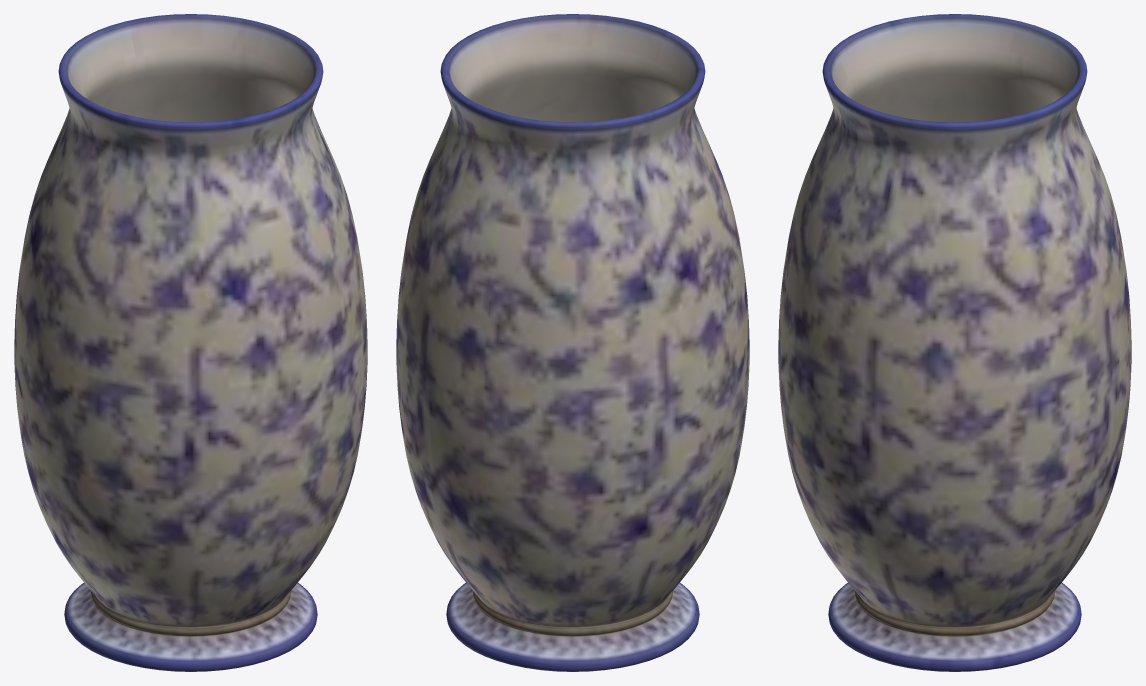
Rendered from antique_ceramic_vase_01.glb.
3 renders of one model, left to right at view 1: azimuth 30°, elevation 25°; view 2: azimuth 150°, elevation 25°; view 3: azimuth 270°, elevation 25°, orthographic.
Parts seen in each view (by area): view 1: antique_ceramic_vase_01; view 2: antique_ceramic_vase_01; view 3: antique_ceramic_vase_01.
Part boxes in pixels (<box>): antique_ceramic_vase_01: <box>14,14,367,671</box>; antique_ceramic_vase_01: <box>396,14,749,671</box>; antique_ceramic_vase_01: <box>778,14,1131,671</box>.
Size of the model in its own units: 0.255 by 0.4396 by 0.255.
1 material, 1 textured.
